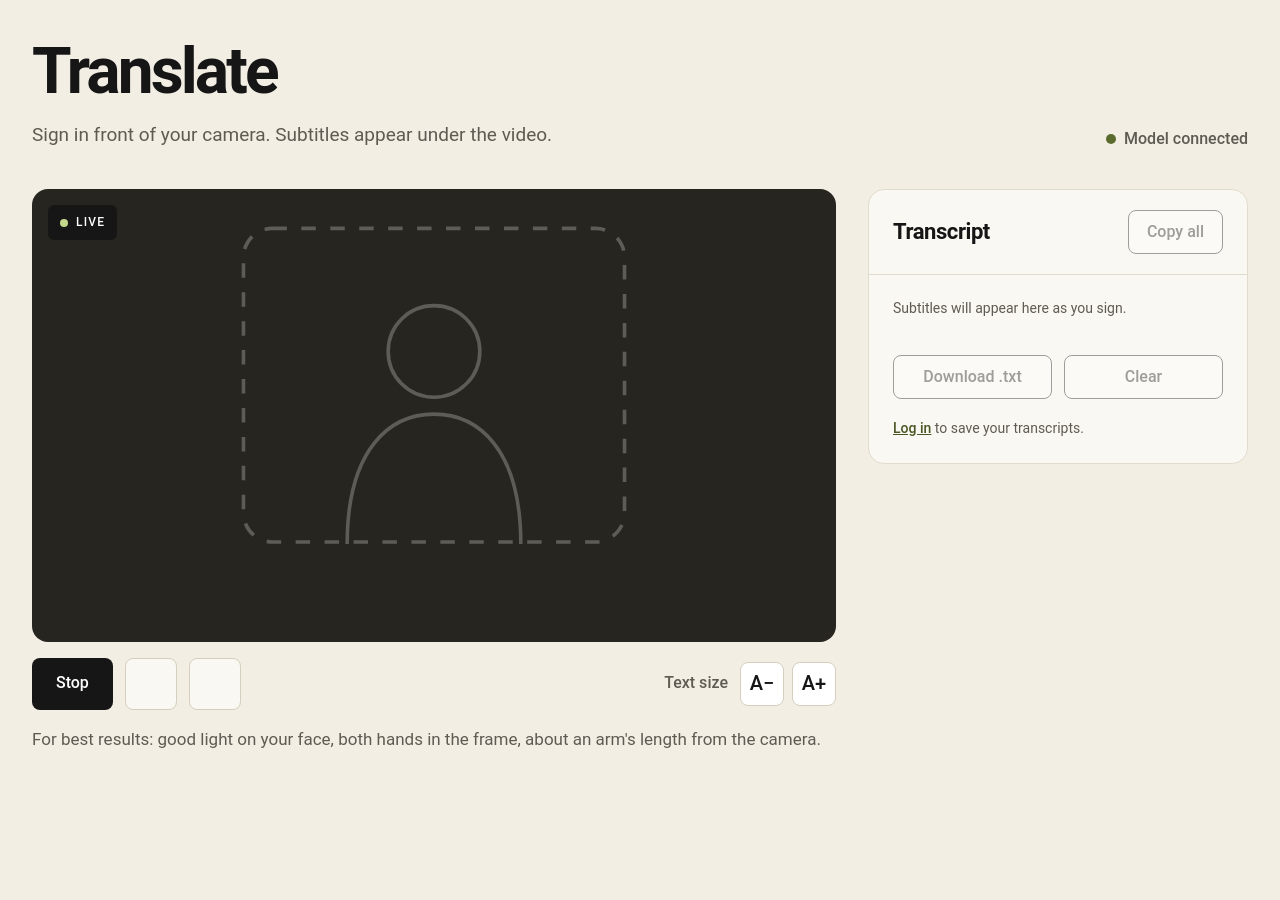
Test: TranslateView › toggles between Stop and Start, flipping the LIVE badge
The image size is (1280, 900).
Click the button "Stop" at (72, 684), box [32, 658, 113, 710]
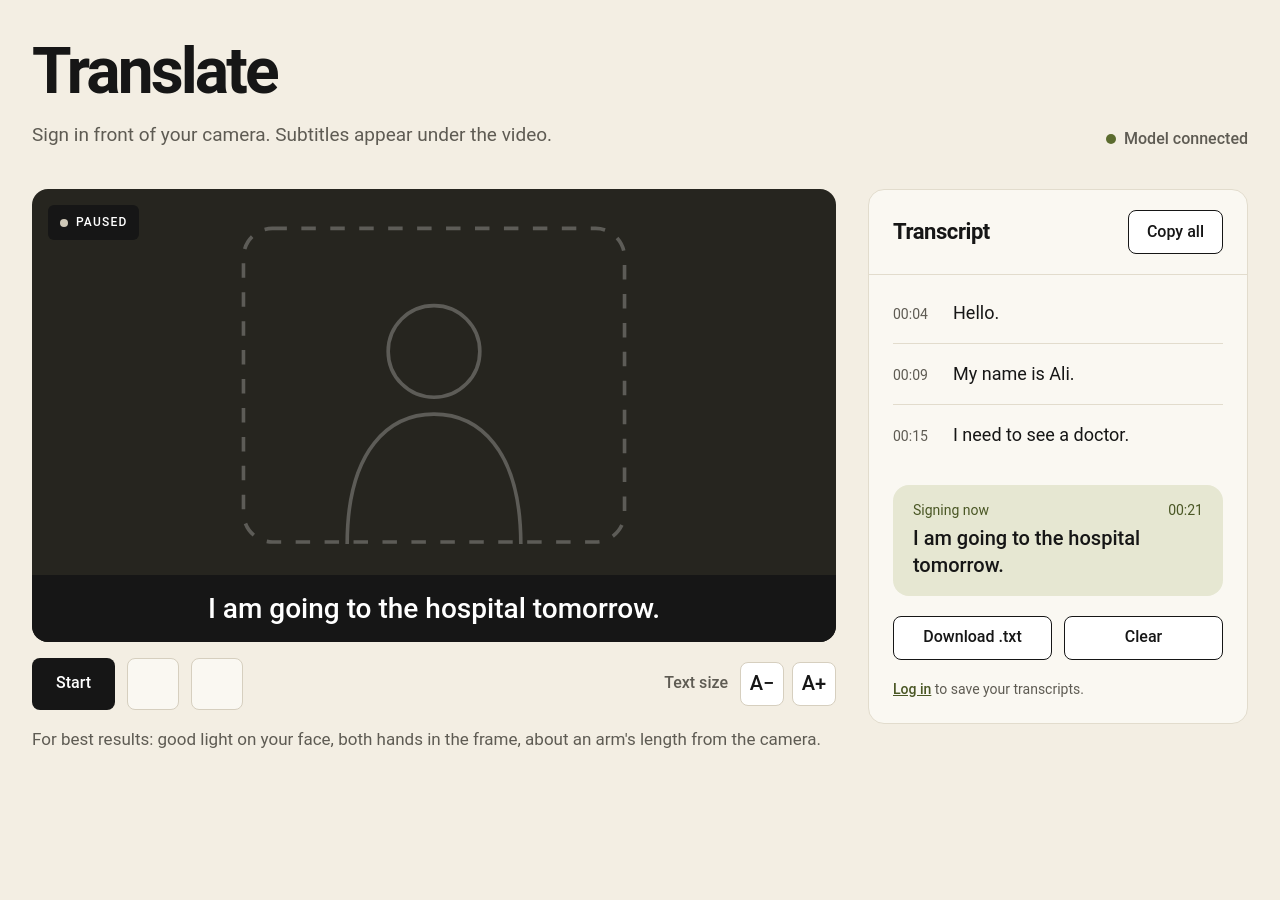
Result: the button "Start" is shown at [32, 658, 115, 710]
Result: the text "Paused" is shown at [48, 205, 139, 240]
